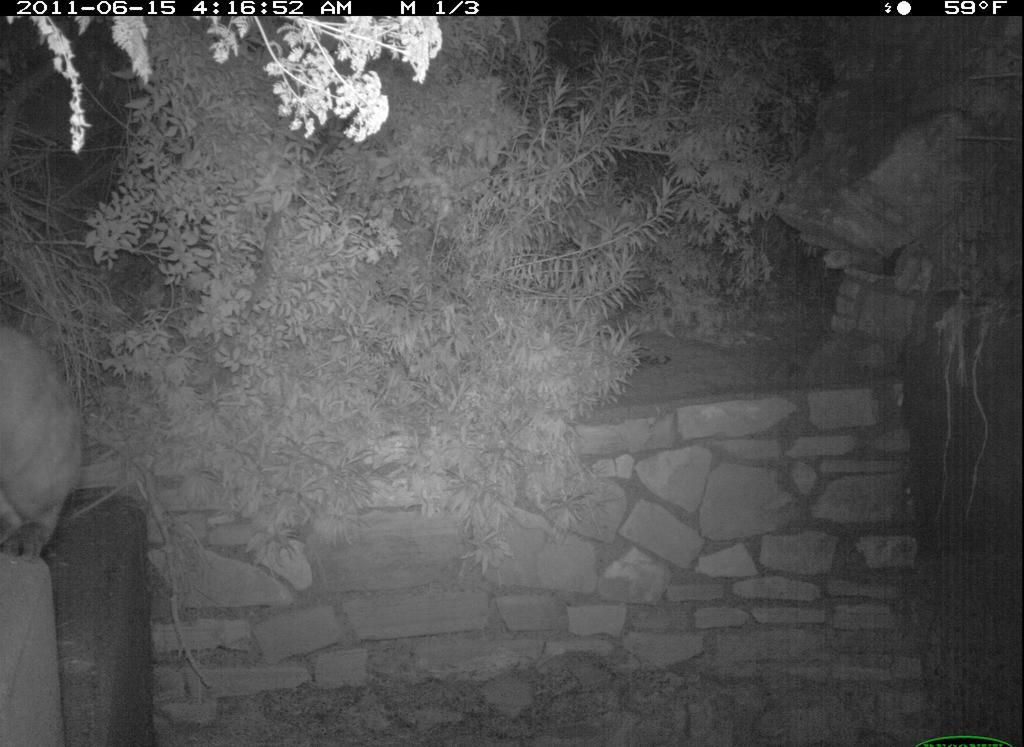cat: (2, 323, 89, 570)
